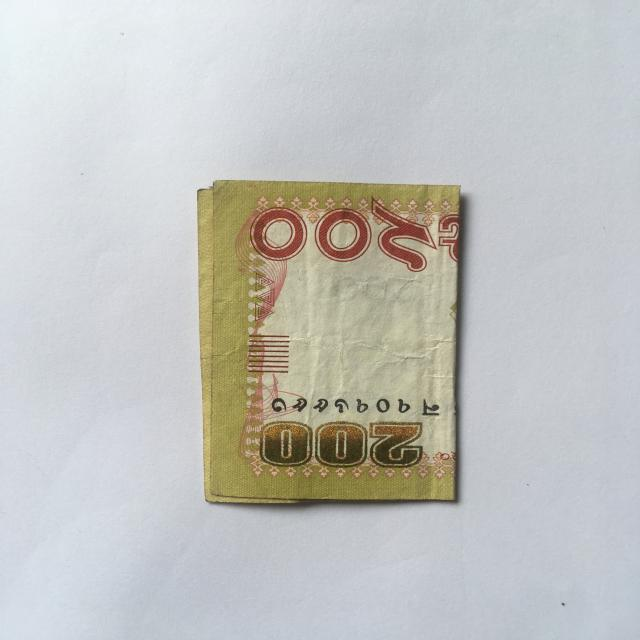Taka: (195, 172, 461, 510)
